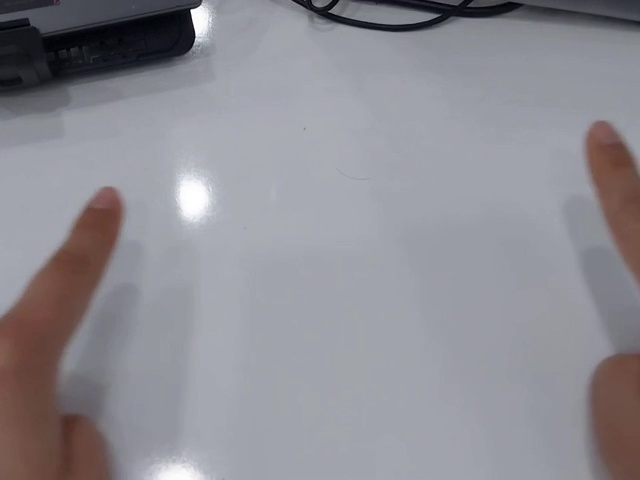fingers: (73, 183, 124, 242), (584, 119, 634, 174)
